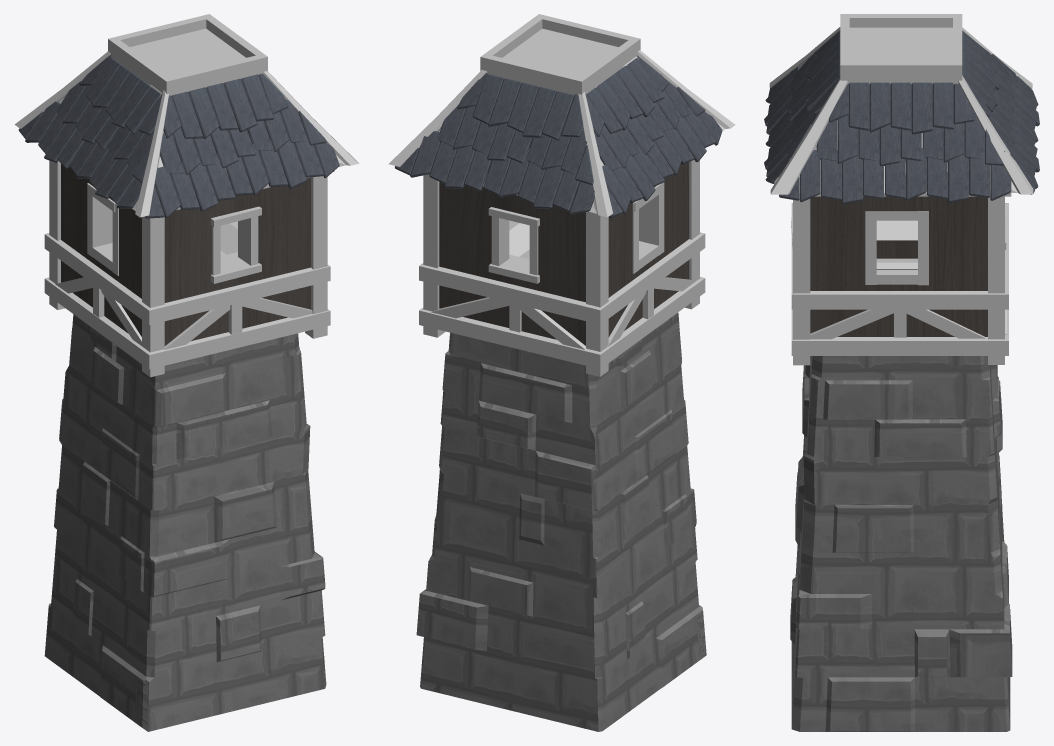
File: att_tower2_uv.fbx
3 views of the same model, side by side, from view 1: azimuth 30°, elevation 25°; view 2: azimuth 150°, elevation 25°; view 3: azimuth 270°, elevation 25° (orthographic). The views are drawn at different scales.
Parts seen in each view (by area): view 1: polySurface137; view 2: polySurface137; view 3: polySurface137.
Part boxes in pixels (x1,y1,x2,y2): polySurface137: (14,14,358,731); polySurface137: (388,14,735,731); polySurface137: (764,14,1039,731).
Size of the model in its own units: 21.56 by 56.2 by 21.72.
